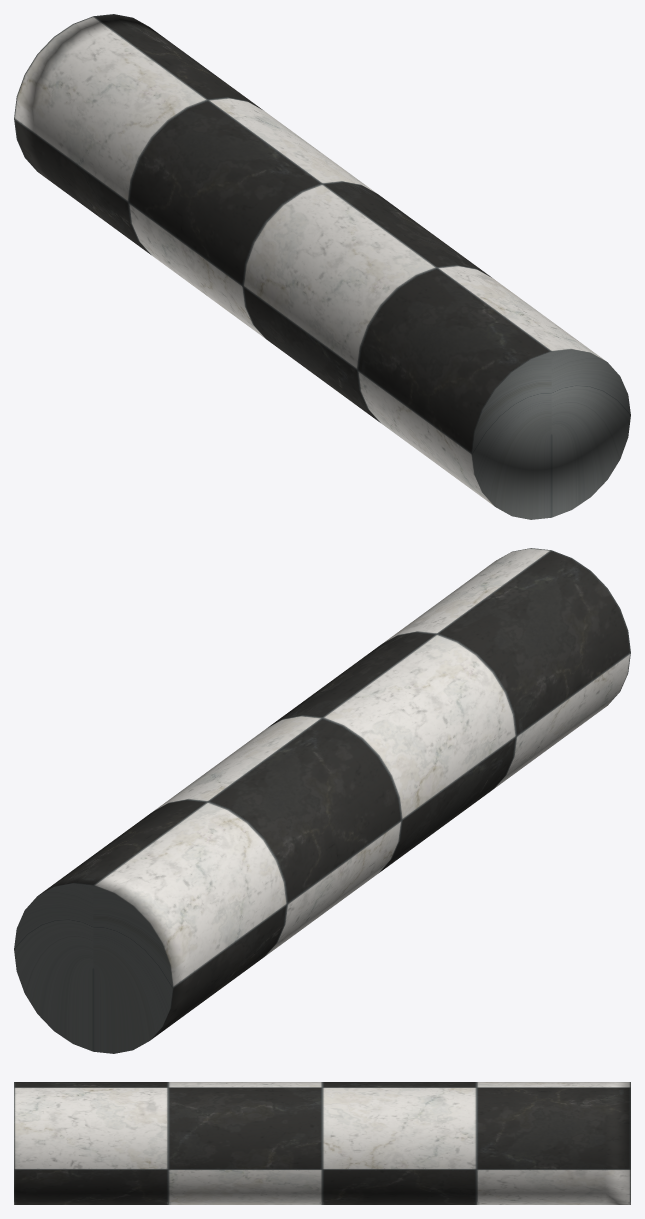
Rendered from column20.obj.
The picture shows the model from 3 angles, top to bottom: view 1: azimuth 30°, elevation 25°; view 2: azimuth 150°, elevation 25°; view 3: azimuth 270°, elevation 25°; orthographic projection. The views are drawn at different scales.
Parts seen in each view (by area): view 1: object; view 2: object; view 3: object.
Part boxes in pixels (x1,y1,x2,y2): object: (14,14,630,519); object: (14,548,630,1053); object: (14,1082,630,1204).
Bounding box in the file's own units: 0.2 × 0.2 × 1.
